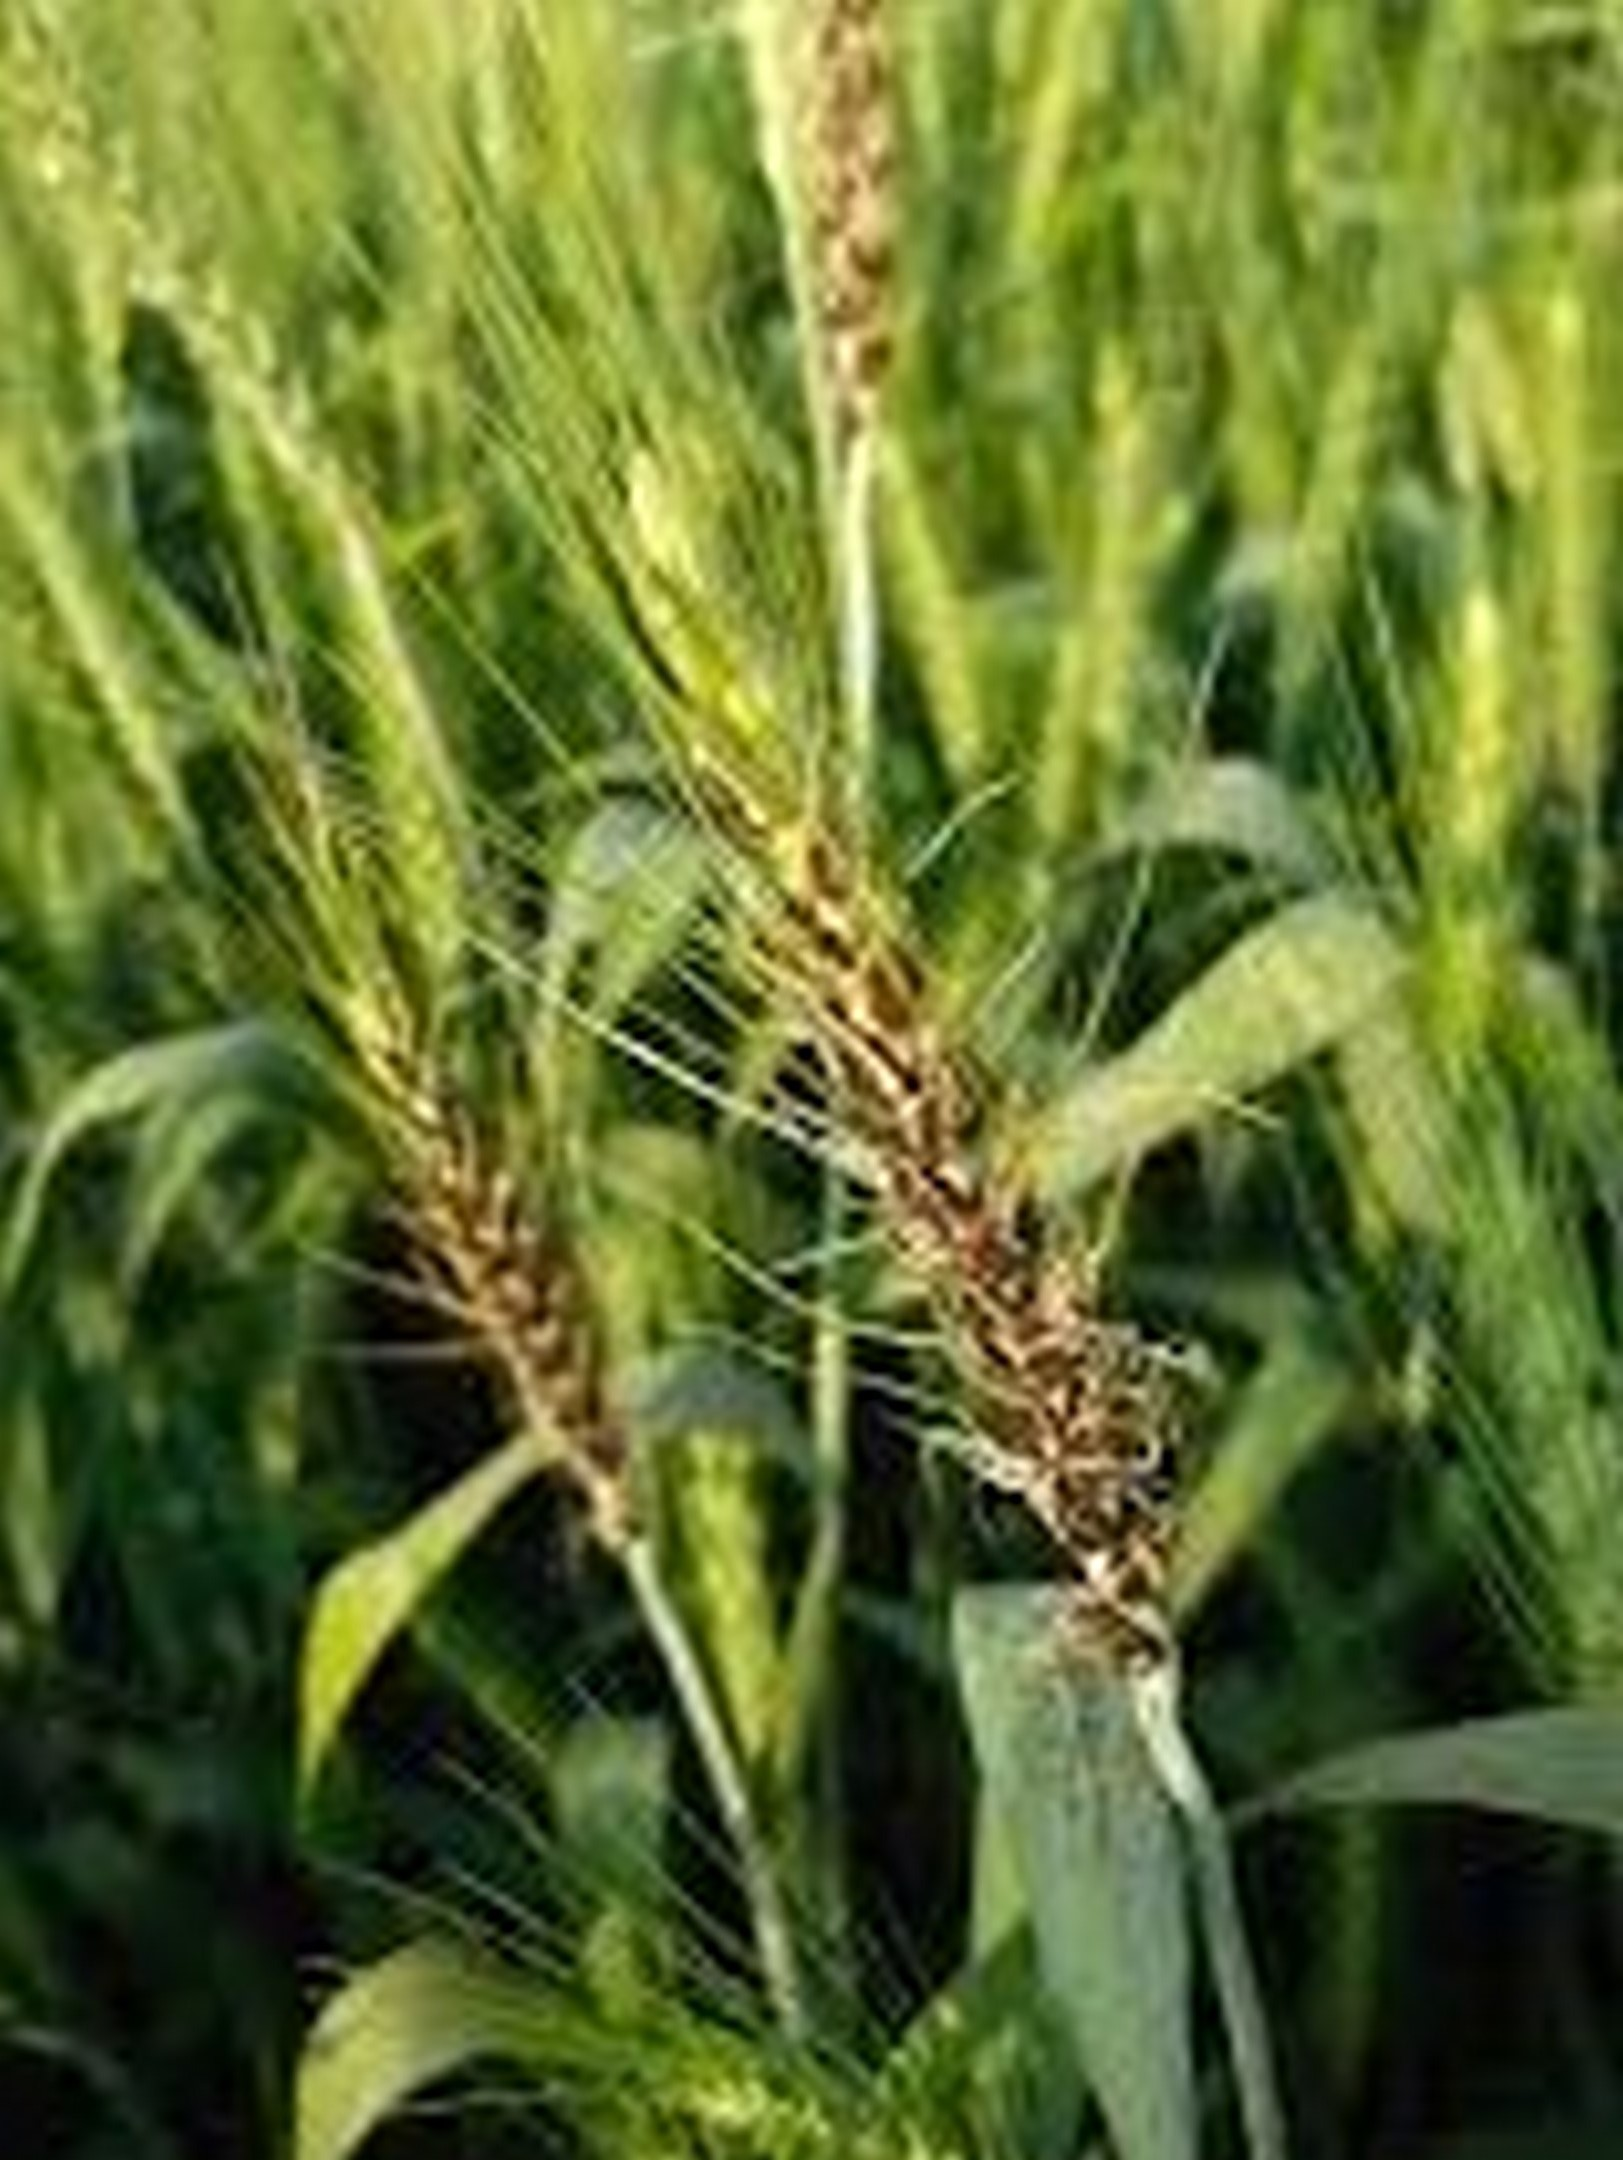Wheat Loose Smut: (690, 881, 1193, 1642)
